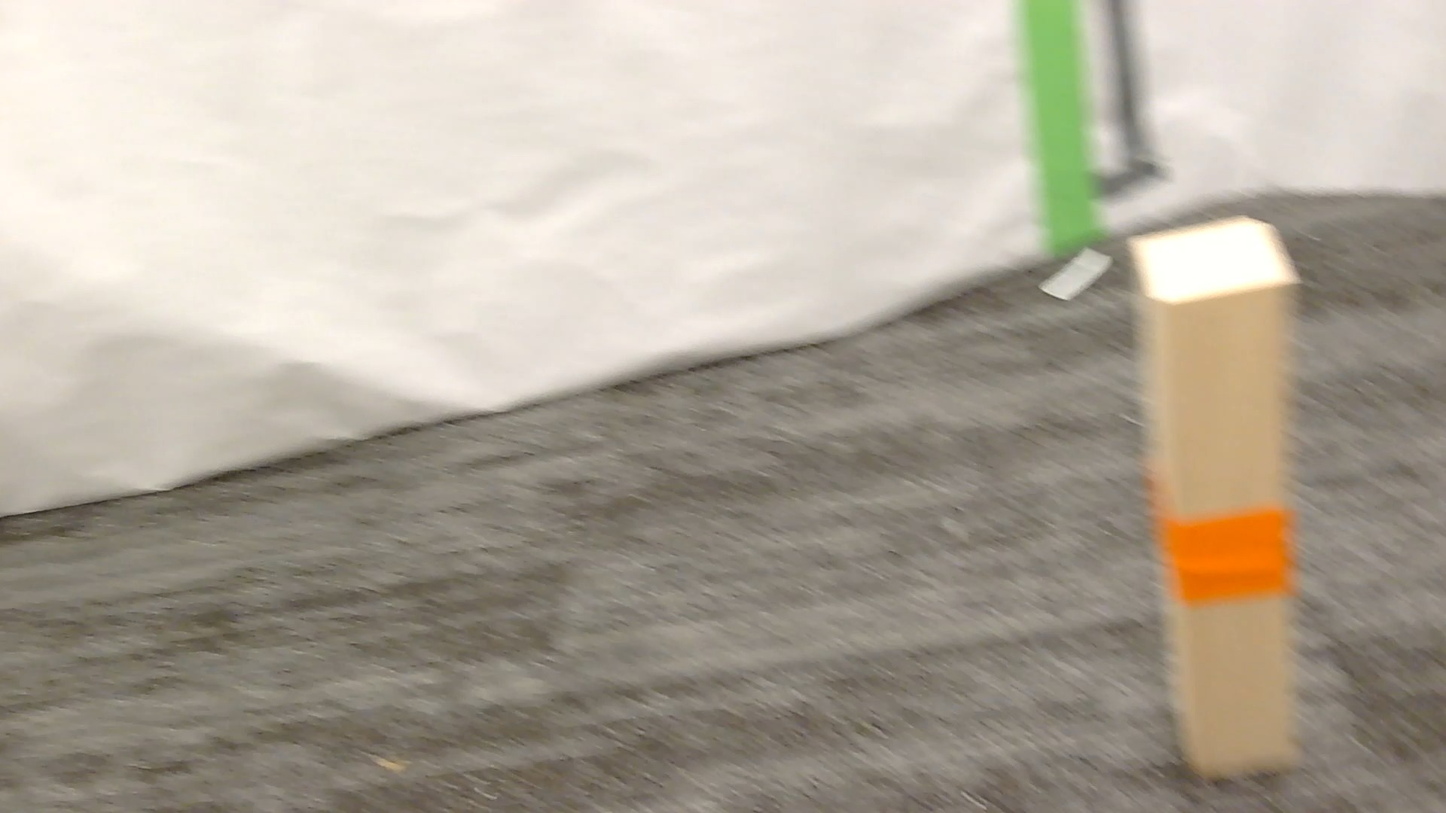Wooden Block: (1131, 218, 1298, 776)
